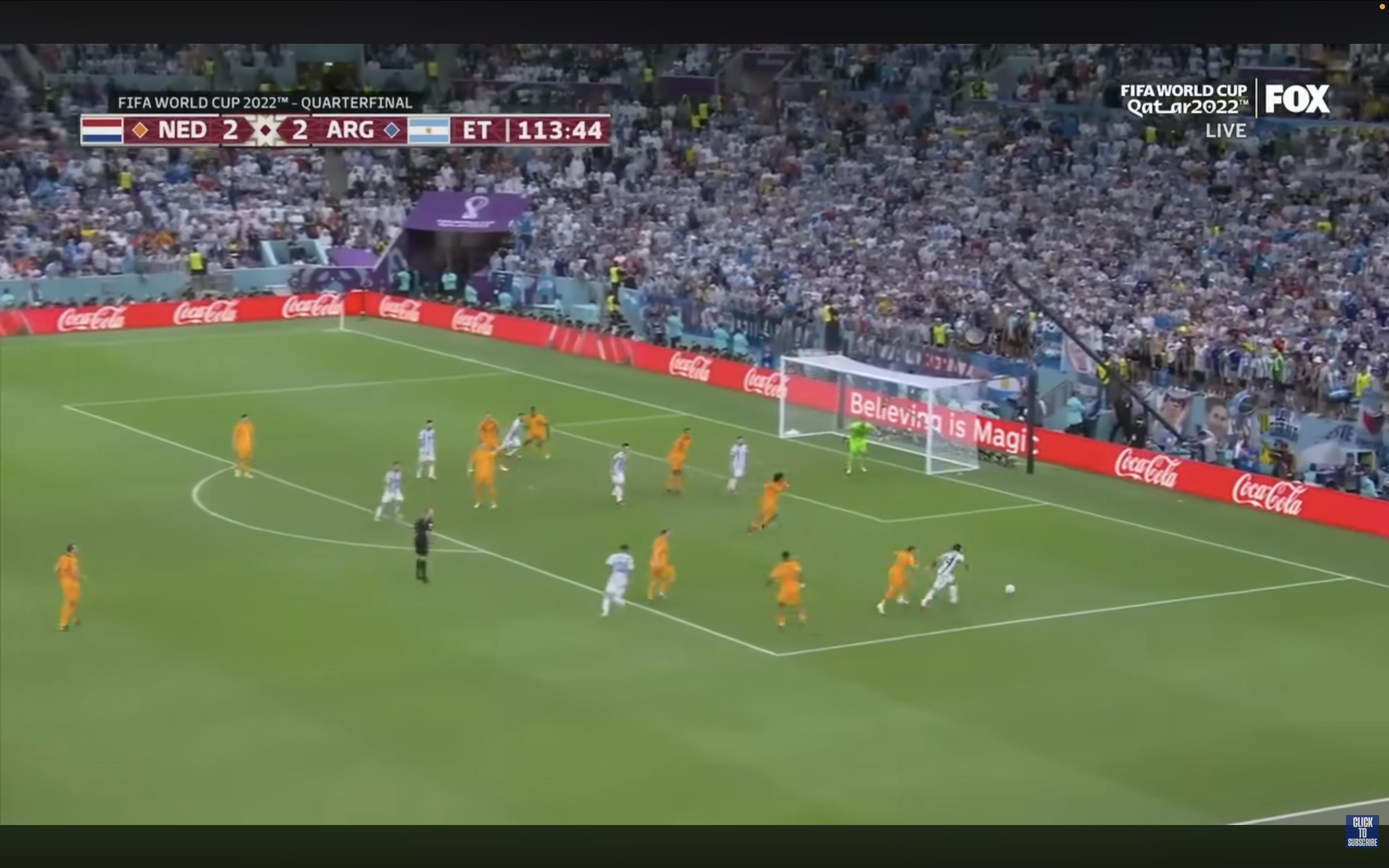ball: (1004, 584, 1016, 595)
goalkeeper: (846, 421, 874, 474)
player: (768, 551, 807, 627), (921, 544, 967, 608), (876, 546, 918, 614), (748, 473, 789, 534), (55, 544, 83, 631), (601, 544, 634, 616), (468, 442, 499, 508), (648, 530, 675, 600), (374, 462, 404, 521), (479, 414, 508, 471), (666, 429, 691, 494), (232, 414, 255, 478), (522, 407, 549, 458), (417, 420, 437, 479), (610, 443, 629, 505), (727, 436, 747, 492), (502, 413, 526, 458)
referee: (413, 509, 434, 583)
